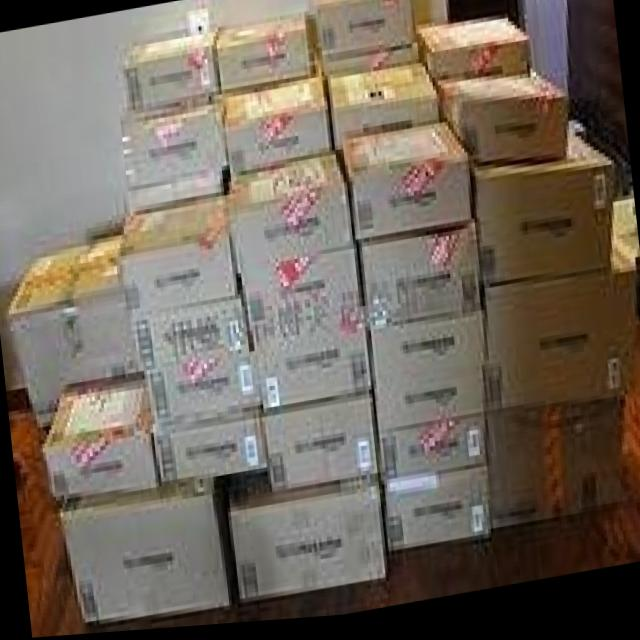box: (3, 232, 145, 430), (481, 249, 636, 418), (60, 479, 229, 624), (474, 138, 611, 292), (227, 476, 385, 602), (486, 404, 624, 540), (117, 198, 237, 320), (342, 129, 468, 245), (225, 160, 350, 273), (42, 381, 156, 498), (358, 230, 481, 331), (437, 80, 568, 170), (261, 399, 377, 495), (123, 106, 224, 214), (222, 81, 329, 181), (243, 253, 361, 342), (145, 354, 260, 439), (253, 332, 371, 413), (130, 302, 249, 381), (117, 30, 219, 121), (330, 65, 439, 147), (387, 473, 491, 557), (313, 0, 418, 81), (367, 322, 487, 390), (415, 21, 532, 88), (153, 417, 264, 484), (216, 16, 310, 93), (379, 423, 489, 486), (374, 381, 483, 436)
